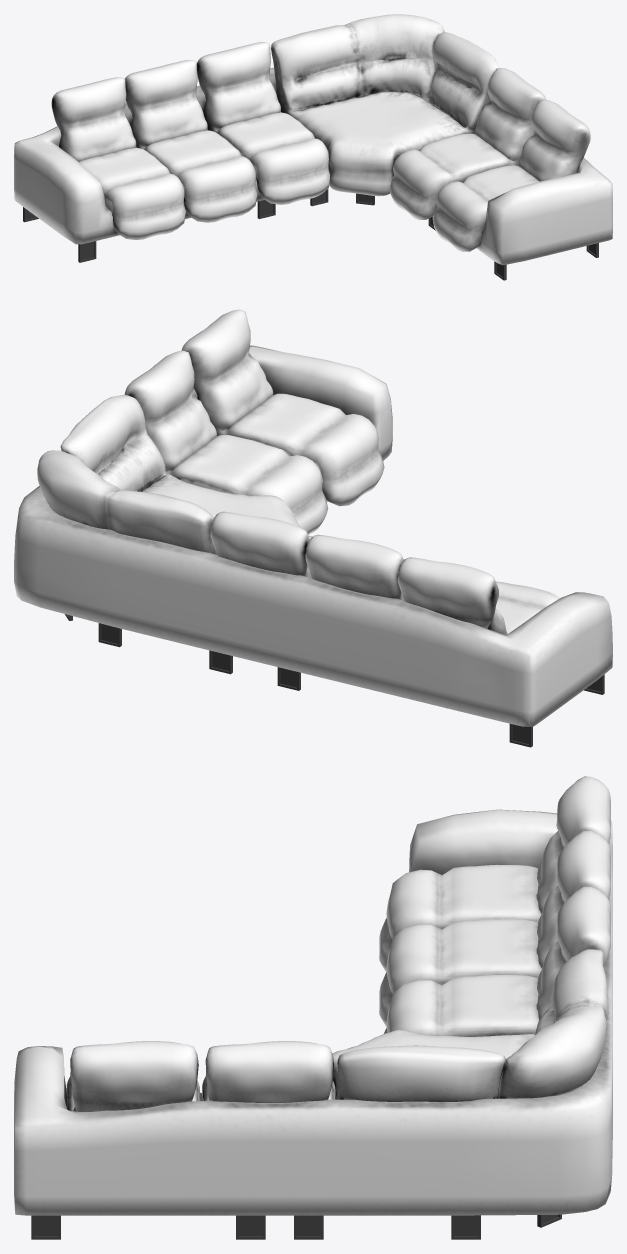
Rendered from Sofa1.fbx.
3 views of the same model, one above another, from view 1: azimuth 30°, elevation 25°; view 2: azimuth 150°, elevation 25°; view 3: azimuth 270°, elevation 25° (orthographic). The views are drawn at different scales.
Visible parts, largest first — view 1: Cube.020, Cube, Cube.018, Cube.022, Cube.023, Cube.024, Cube.021; view 2: Cube, Cube.020, Cube.021, Cube.024, Cube.023, Cube.018, Cube.022; view 3: Cube, Cube.020, Cube.022, Cube.018, Cube.023, Cube.021, Cube.024, Cube.009, Cube.010, Cube.011, Cube.012.
Boxes of the visible parts, x1,y1,x2,y2 form: Cube.020: [271, 14, 499, 196]; Cube: [14, 67, 612, 265]; Cube.018: [196, 42, 329, 204]; Cube.022: [125, 60, 257, 222]; Cube.023: [51, 77, 185, 239]; Cube.024: [389, 68, 546, 219]; Cube.021: [432, 99, 590, 251]; Cube: [14, 345, 612, 726]; Cube.020: [37, 395, 299, 554]; Cube.021: [181, 309, 384, 506]; Cube.024: [124, 350, 328, 534]; Cube.023: [398, 557, 559, 635]; Cube.018: [210, 511, 312, 577]; Cube.022: [305, 534, 404, 600]; Cube: [14, 809, 612, 1215]; Cube.020: [332, 949, 608, 1101]; Cube.022: [379, 830, 610, 1026]; Cube.018: [384, 886, 610, 1036]; Cube.023: [379, 776, 610, 972]; Cube.021: [66, 1041, 200, 1111]; Cube.024: [202, 1041, 335, 1102]; Cube.009: [294, 1215, 323, 1239]; Cube.010: [236, 1215, 265, 1239]; Cube.011: [31, 1215, 60, 1239]; Cube.012: [451, 1215, 480, 1239].
Size of the model in its own units: 293 by 84.31 by 238.
Materials: 2 (1 with a texture image).
